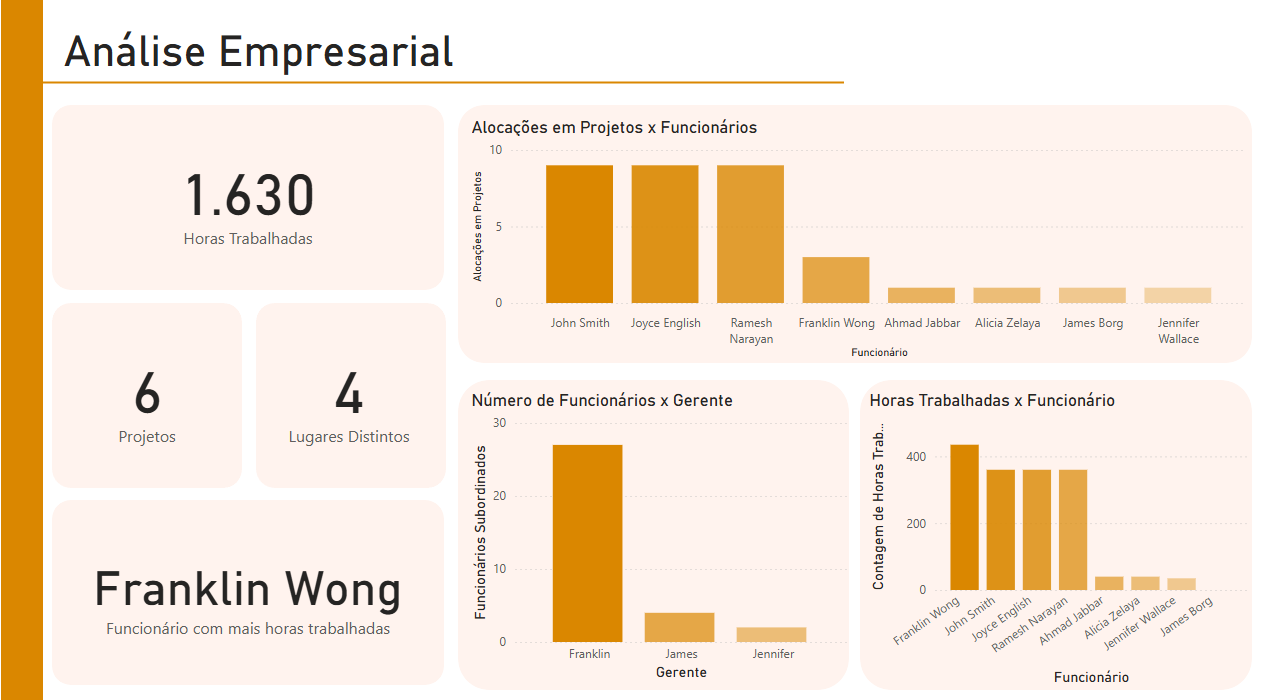

This screenshot's page, from the dashboard's own definition file:
{"tool":"powerbi","page":{"name":"Página 1","canvas":[1280,720],"ordinal":0},"visuals":[{"type":"shape","box":[13.3,12.2,1250.4,690],"z":0},{"type":"shape","box":[469.5,392,392,310.3],"z":1500},{"type":"shape","box":[13,12,42,708],"z":2000},{"type":"columnChart","title":"Número de Funcionários x Gerente","fields":{"Y":["SuperAgrupados.Contagem"],"Category":["SuperAgrupados.SuperName"]},"box":[478.7,402.2,384.8,295],"z":3000},{"type":"shape","box":[55.1,76.6,801.3,35.7],"z":4000},{"type":"textbox","box":[71.5,32.7,485.9,62.3],"z":5000},{"type":"shape","box":[871.7,392,392,310.3],"z":7000},{"type":"columnChart","title":"Horas Trabalhadas x Funcionário","fields":{"Y":["azure_company works_on.Contagem"],"Category":["azure_company works_on.Full Name"]},"box":[876.8,402.2,386.9,300.1],"z":8000},{"type":"shape","box":[64.3,117.4,392,185],"z":9000},{"type":"card","fields":{"Values":["azure_company works_on.Contagem"]},"box":[64.3,117.4,392,184.8],"z":10000},{"type":"shape","box":[469.5,117.4,794.1,257.2],"z":11000},{"type":"columnChart","title":"Alocações em Projetos x Funcionários","fields":{"Y":["EmployeeAgrupados.Contagem"],"Category":["EmployeeAgrupados.FullName"]},"box":[478.7,128.6,784.9,246],"z":12000},{"type":"shape","box":[64.3,315.4,190,184.8],"z":12001},{"type":"shape","box":[64.3,512.4,392,184.8],"z":12002},{"type":"card","fields":{"Values":["azure_company project.Pname"]},"box":[64.3,315.4,189.9,184.8],"z":12003},{"type":"card","fields":{"Values":["azure_company works_on.NomeMaiorContagem"]},"box":[64.3,512.4,392,184.8],"z":12004},{"type":"shape","box":[268.5,315.4,190,184.8],"z":12005},{"type":"card","fields":{"Values":["azure_company project.Plocation"]},"box":[266.4,315.4,189.9,184.8],"z":12006}]}

Visuals, with their boxes in screenshot pixels (x1, y1, x2, y2), scaled from the page's 1280x720 canvas onto the 1264x700 screenshot:
shape: 13,12,1248,683
shape: 464,381,851,683
shape: 13,12,54,699
"Número de Funcionários x Gerente" columnChart: 473,391,853,678
shape: 54,74,846,109
textbox: 71,32,550,92
shape: 861,381,1248,683
"Horas Trabalhadas x Funcionário" columnChart: 866,391,1248,683
shape: 63,114,451,294
card - azure_company works_on.Contagem: 63,114,451,294
shape: 464,114,1248,364
"Alocações em Projetos x Funcionários" columnChart: 473,125,1248,364
shape: 63,307,251,486
shape: 63,498,451,678
card - azure_company project.Pname: 63,307,251,486
card - azure_company works_on.NomeMaiorContagem: 63,498,451,678
shape: 265,307,453,486
card - azure_company project.Plocation: 263,307,451,486
